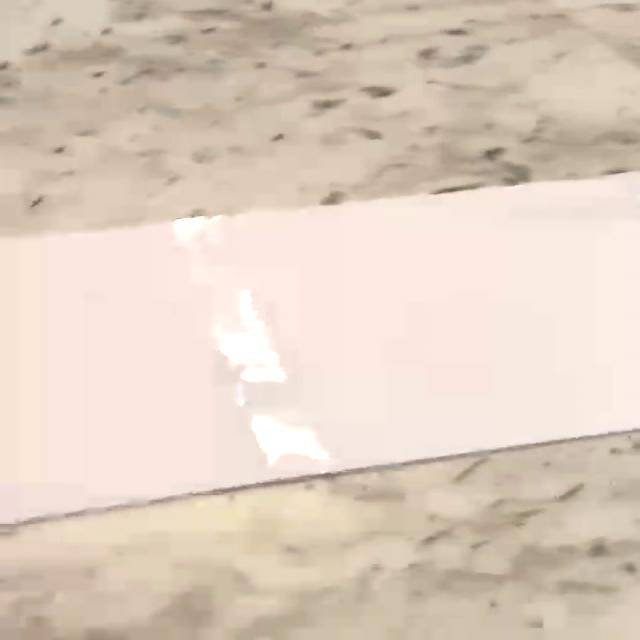road: (3, 174, 640, 523)
